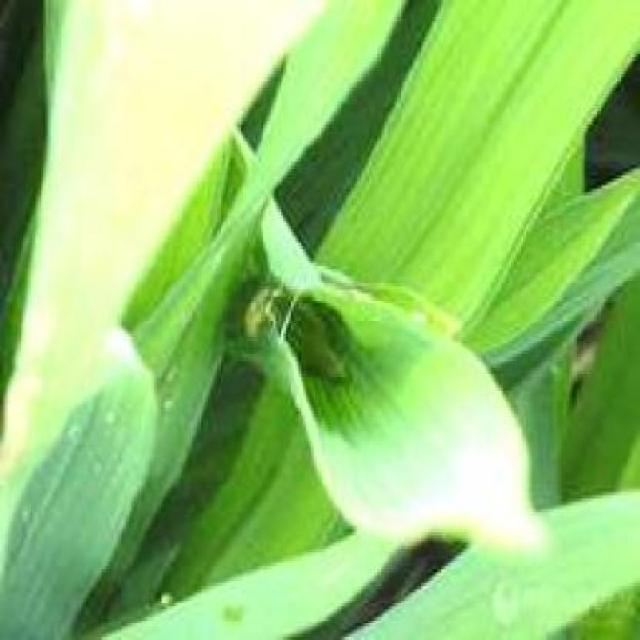leaf-folder: (217, 250, 368, 407)
